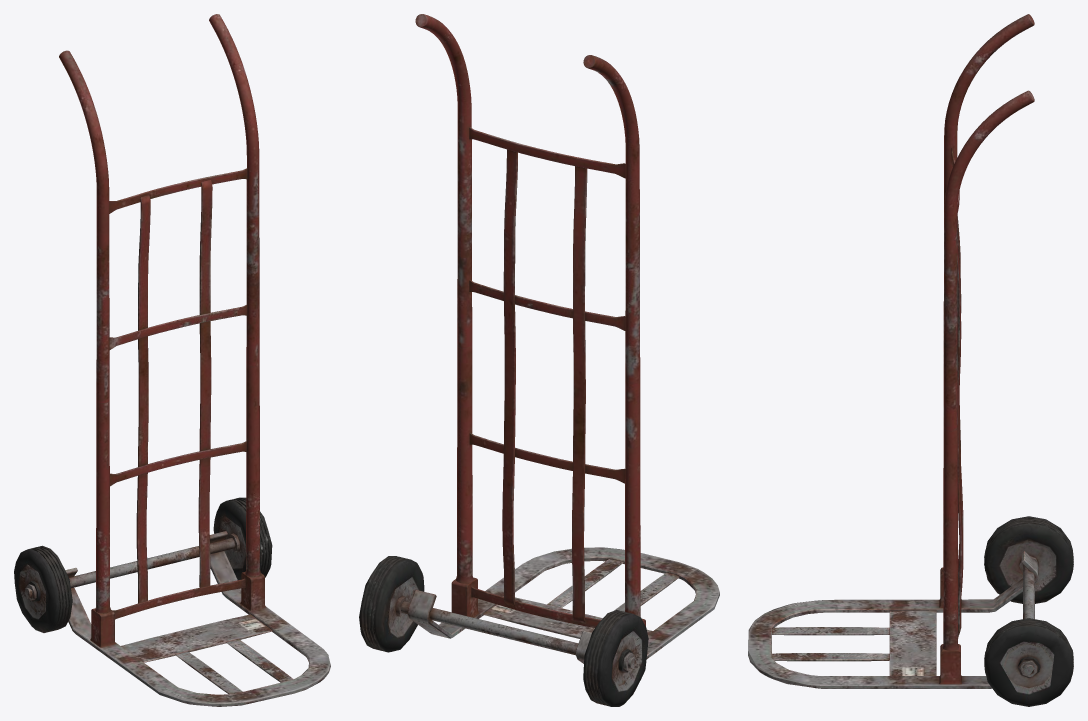
File: hand_truck.glb
The picture shows the model from 3 angles, left to right: view 1: azimuth 30°, elevation 25°; view 2: azimuth 150°, elevation 25°; view 3: azimuth 270°, elevation 25°; orthographic projection. The views are drawn at different scales.
Parts seen in each view (by area): view 1: hand_truck; view 2: hand_truck; view 3: hand_truck.
Boxes of the visible parts, x1,y1,x2,y2 form: hand_truck: (14, 14, 330, 706); hand_truck: (359, 14, 719, 706); hand_truck: (748, 14, 1073, 706).
Bounding box in the file's own units: 0.5933 × 1.4 × 0.6922.
1 material, 1 textured.
